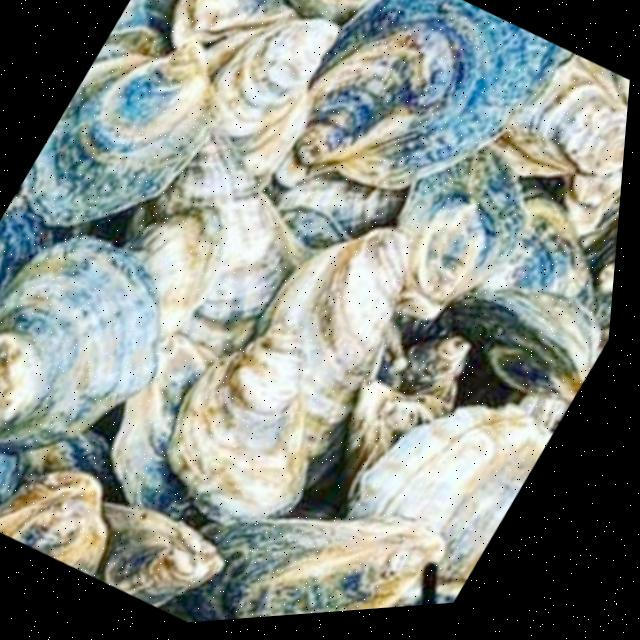Oyster-Closed: (20, 44, 218, 228), (163, 324, 309, 524), (490, 55, 627, 178), (470, 188, 596, 317), (173, 0, 300, 48), (561, 168, 622, 237)
Oyster-Indeterminate: (277, 0, 575, 190), (346, 405, 555, 607), (254, 229, 416, 454), (0, 237, 165, 450), (178, 519, 450, 622), (141, 129, 286, 322), (204, 18, 340, 184), (397, 146, 525, 320), (107, 335, 219, 523), (450, 289, 600, 404), (122, 205, 231, 344), (94, 502, 222, 607), (343, 380, 455, 498), (0, 470, 106, 577), (257, 165, 349, 268), (15, 429, 130, 506), (0, 196, 90, 293), (280, 172, 407, 235), (399, 336, 471, 409), (287, 0, 378, 21), (144, 0, 178, 40), (0, 452, 18, 500)
